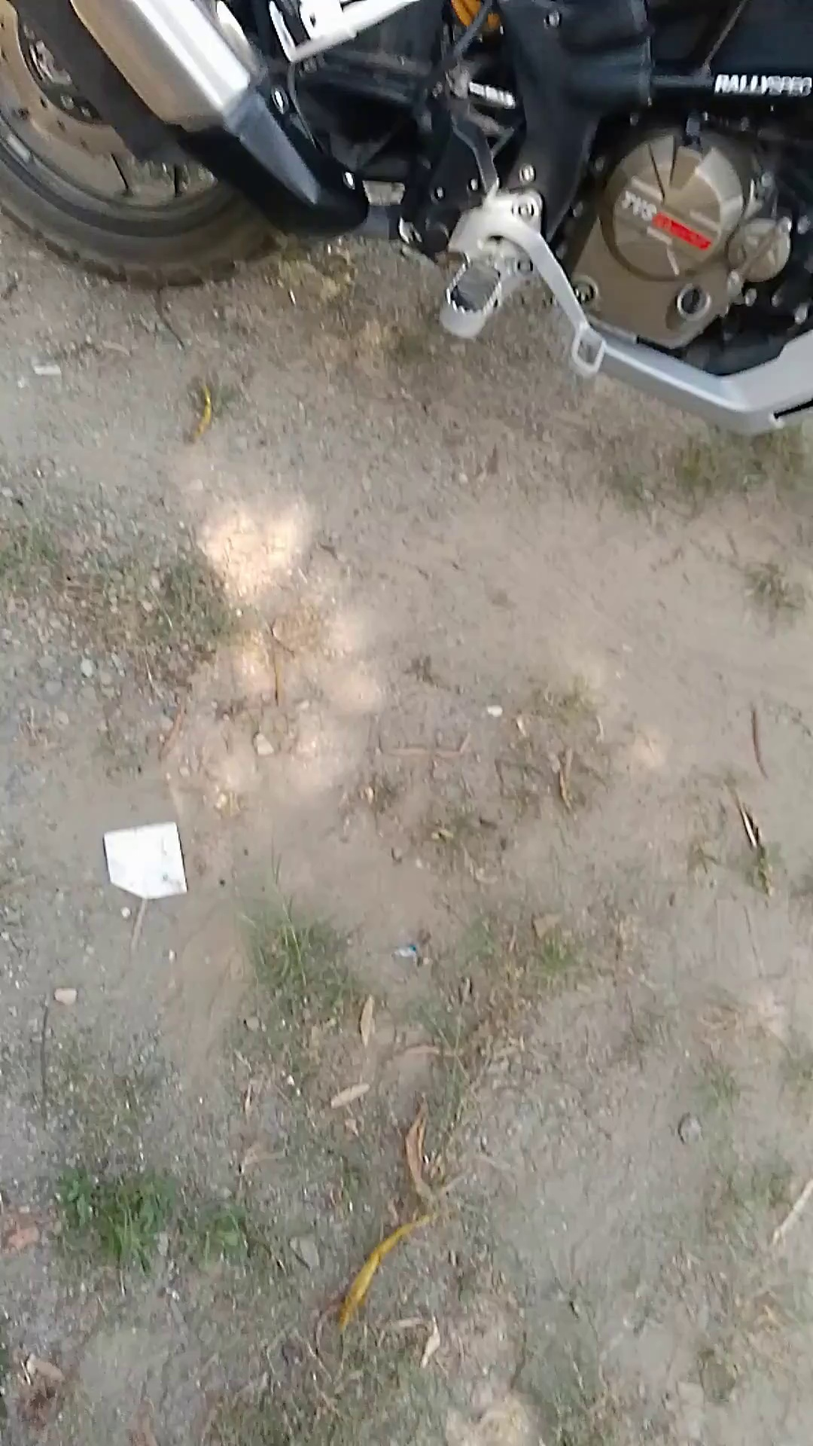engine: (545, 93, 804, 387)
oil_cap: (667, 270, 721, 328)
oil_marker: (555, 265, 608, 323)
